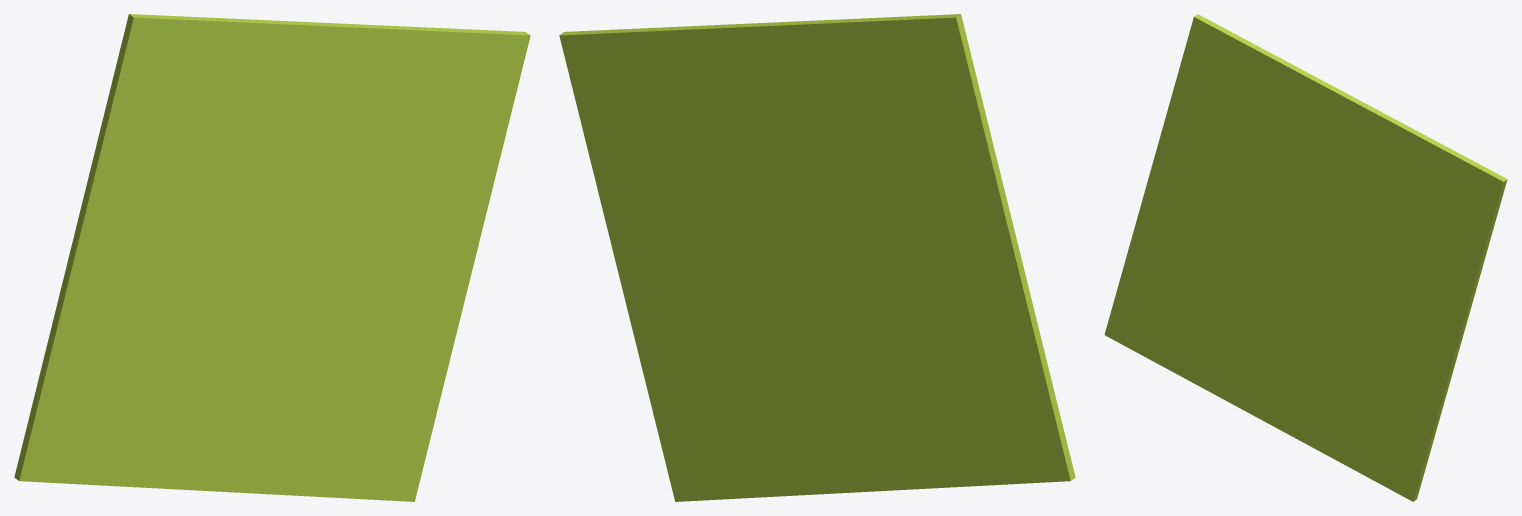
3 views of the same model, side by side, from view 1: azimuth 30°, elevation 25°; view 2: azimuth 150°, elevation 25°; view 3: azimuth 330°, elevation 25° (orthographic). The views are drawn at different scales.
Visible parts, largest first — view 1: osm-way27917482-F3; view 2: osm-way27917482-F3; view 3: osm-way27917482-F3.
Part boxes in pixels (bbox=[...]): osm-way27917482-F3: bbox=[14, 14, 530, 501]; osm-way27917482-F3: bbox=[559, 14, 1075, 501]; osm-way27917482-F3: bbox=[1104, 14, 1507, 501].
Bounding box in the file's own units: 8.98 × 9.27 × 0.15.
